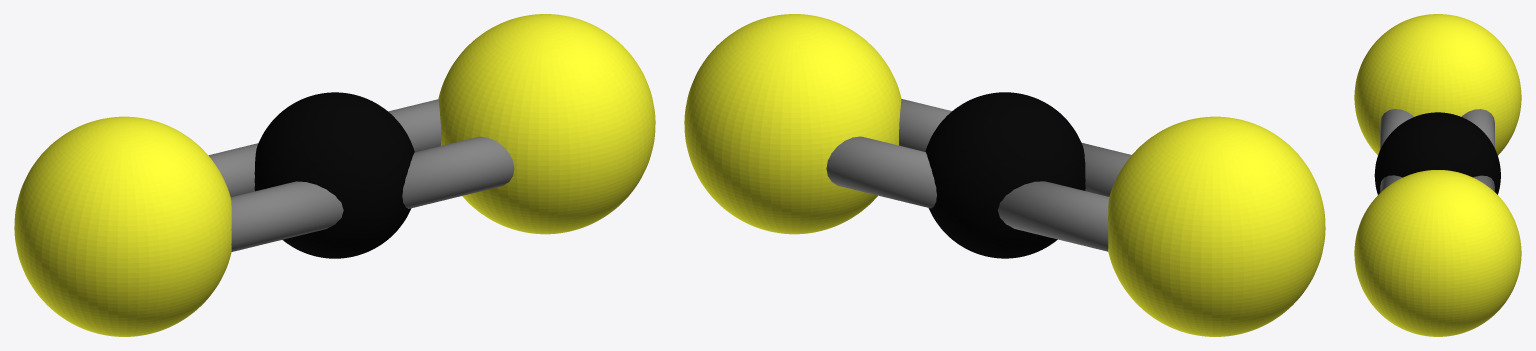
Rendered from DIOXIDO AZUFRE.obj.
3 renders of one model, left to right at view 1: azimuth 30°, elevation 25°; view 2: azimuth 150°, elevation 25°; view 3: azimuth 270°, elevation 25°, orthographic. The views are drawn at different scales.
Visible parts, largest first — view 1: Sulfur_ball_Esfera, Carbon_ball_Esfera.001, Stick_Cylinder_0000.001_Cilindro.003, Stick_Cylinder_0001.001_Cilindro.002, Stick_Cylinder_0001_Cilindro.001, Stick_Cylinder_0000_Cilindro; view 2: Sulfur_ball_Esfera, Carbon_ball_Esfera.001, Stick_Cylinder_0000_Cilindro, Stick_Cylinder_0001_Cilindro.001, Stick_Cylinder_0001.001_Cilindro.002, Stick_Cylinder_0000.001_Cilindro.003; view 3: Sulfur_ball_Esfera, Carbon_ball_Esfera.001, Stick_Cylinder_0000.001_Cilindro.003, Stick_Cylinder_0000_Cilindro, Stick_Cylinder_0001.001_Cilindro.002, Stick_Cylinder_0001_Cilindro.001.
Boxes of the visible parts, left/top/right/bottom form: Sulfur_ball_Esfera: left=14, top=14, right=655, bottom=336; Carbon_ball_Esfera.001: left=254, top=92, right=414, bottom=258; Stick_Cylinder_0000.001_Cilindro.003: left=230, top=181, right=343, bottom=251; Stick_Cylinder_0001.001_Cilindro.002: left=402, top=136, right=514, bottom=208; Stick_Cylinder_0001_Cilindro.001: left=388, top=99, right=441, bottom=152; Stick_Cylinder_0000_Cilindro: left=208, top=143, right=258, bottom=196; Sulfur_ball_Esfera: left=684, top=14, right=1325, bottom=336; Carbon_ball_Esfera.001: left=925, top=92, right=1085, bottom=258; Stick_Cylinder_0000_Cilindro: left=997, top=181, right=1109, bottom=251; Stick_Cylinder_0001_Cilindro.001: left=826, top=136, right=936, bottom=208; Stick_Cylinder_0001.001_Cilindro.002: left=899, top=99, right=951, bottom=151; Stick_Cylinder_0000.001_Cilindro.003: left=1082, top=143, right=1131, bottom=196; Sulfur_ball_Esfera: left=1354, top=14, right=1521, bottom=336; Carbon_ball_Esfera.001: left=1374, top=112, right=1500, bottom=194; Stick_Cylinder_0000.001_Cilindro.003: left=1380, top=109, right=1413, bottom=148; Stick_Cylinder_0000_Cilindro: left=1461, top=109, right=1494, bottom=147; Stick_Cylinder_0001.001_Cilindro.002: left=1380, top=175, right=1402, bottom=192; Stick_Cylinder_0001_Cilindro.001: left=1473, top=175, right=1494, bottom=191.
Size of the model in its own units: 5.23 by 1.63 by 1.63.
